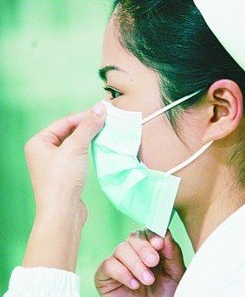face_mask: (89, 3, 193, 218)
